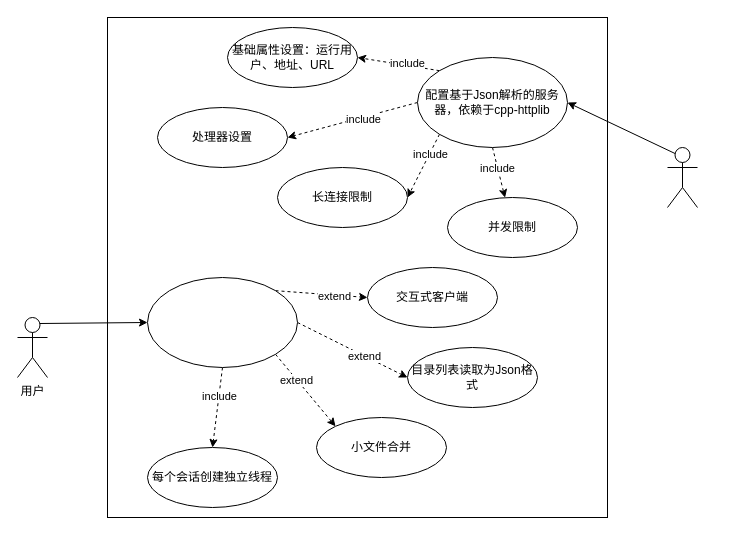
This 736x535 diagram has some shape labels left out. The shapes that lost their labels are listed below. From the top down, each one's centre as x and y in pixels, then its label:
At [682,177]: "服务器管理员".
At [222,322]: "支持文件上传、下载的客户端".
